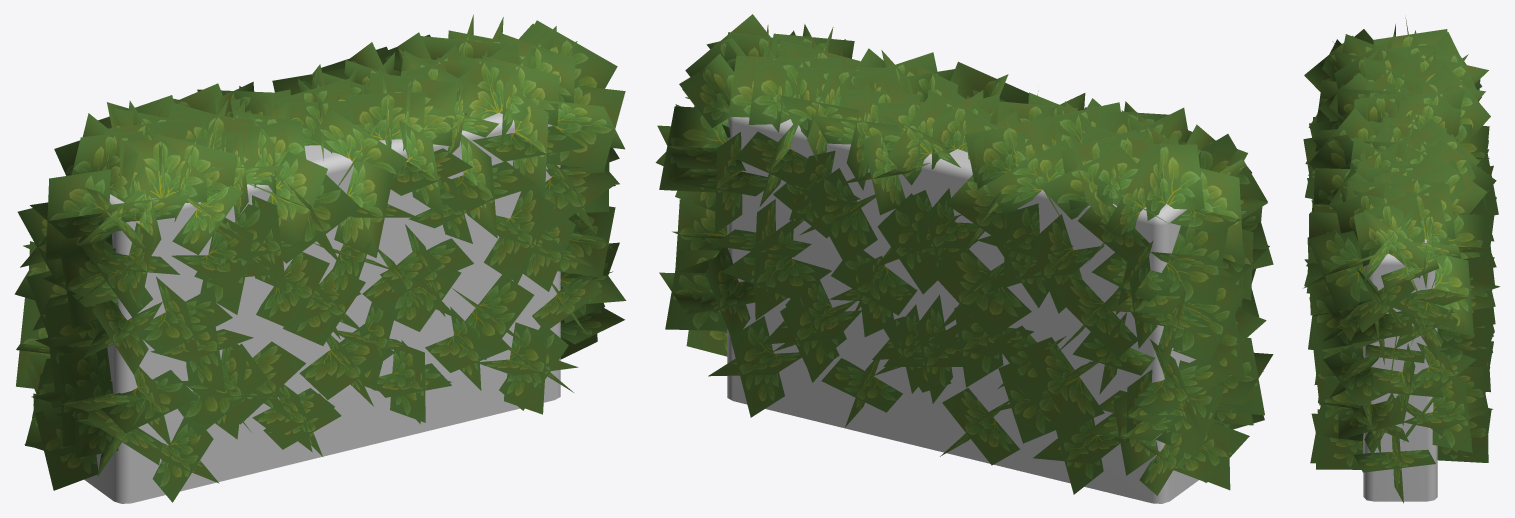
Rendered from Hedge1_LOD1.fbx.
3 renders of one model, left to right at view 1: azimuth 30°, elevation 25°; view 2: azimuth 150°, elevation 25°; view 3: azimuth 270°, elevation 25°, orthographic. The views are drawn at different scales.
Visible parts, largest first — view 1: polySurface19331; view 2: polySurface19331; view 3: polySurface19331.
Boxes of the visible parts, left/top/right/bottom form: polySurface19331: left=14, top=14, right=626, bottom=503; polySurface19331: left=655, top=14, right=1273, bottom=503; polySurface19331: left=1303, top=18, right=1499, bottom=503.
Bounding box in the file's own units: 514 × 311 × 183.
